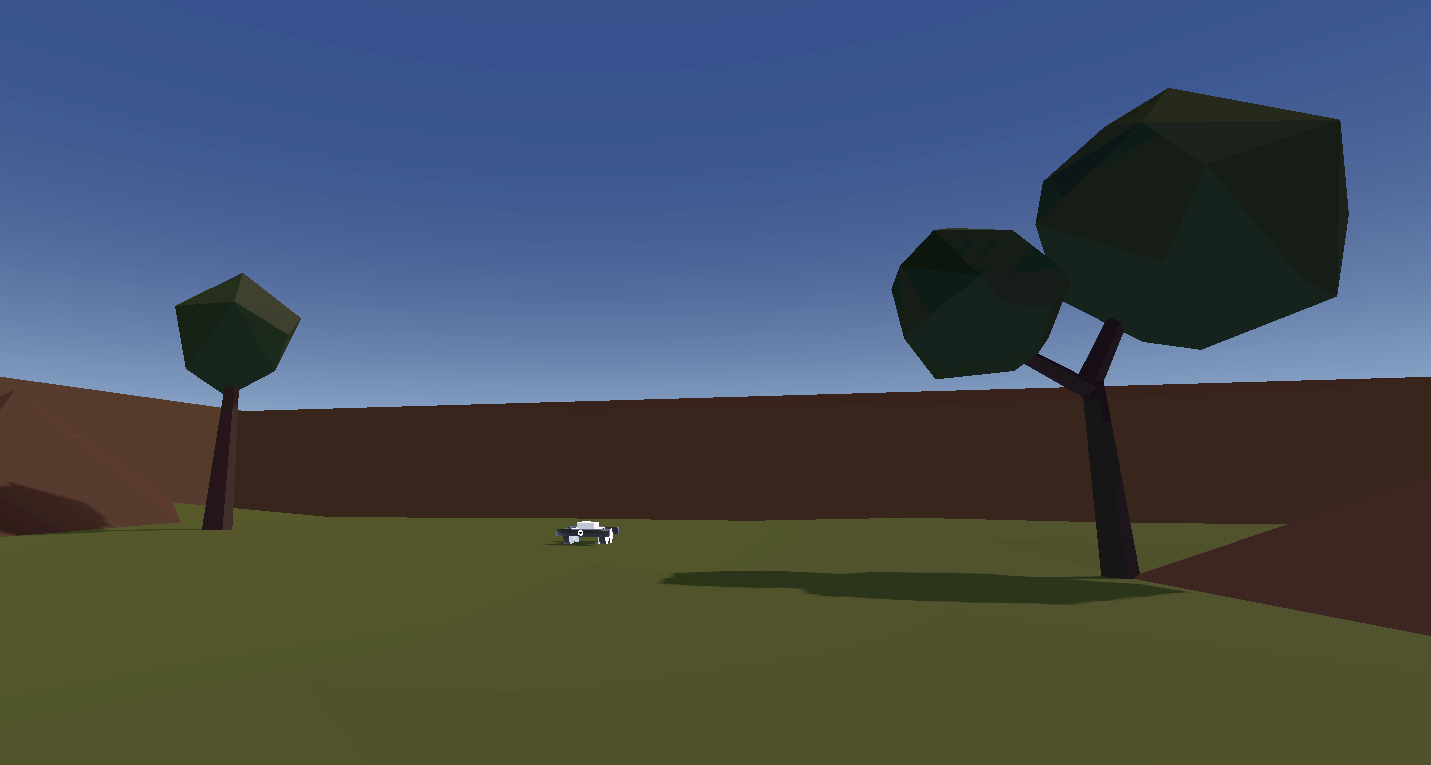tree: (883, 85, 1353, 581), (168, 270, 303, 534)
